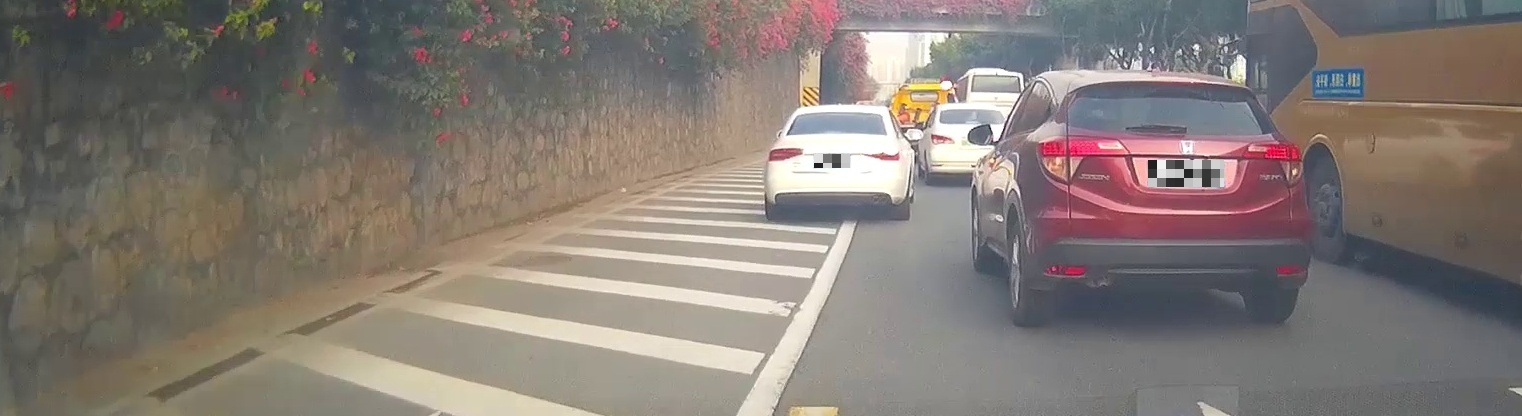L_light: (1035, 134, 1131, 183), (767, 148, 803, 161)
R_light: (1243, 140, 1303, 187), (865, 150, 900, 161)
T_light: (1155, 80, 1196, 87), (826, 112, 849, 116)
day-no: (1034, 71, 1306, 322)
day-right: (765, 104, 904, 218)
plate_1: (814, 154, 850, 168)
plate_2: (1148, 160, 1224, 187)
